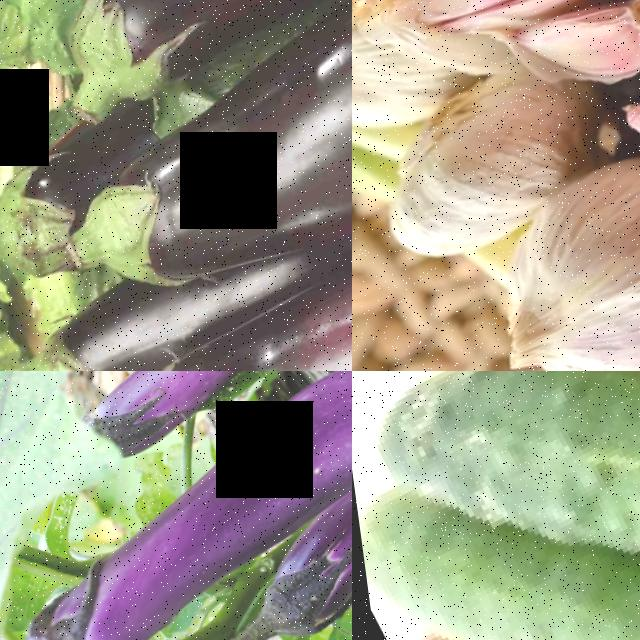cucumber: (356, 371, 640, 581), (507, 460, 640, 640)
eggplant: (41, 0, 352, 338), (0, 465, 269, 640), (28, 0, 352, 126), (91, 215, 352, 371), (35, 371, 352, 473), (214, 466, 352, 640), (0, 273, 178, 371)
garlic: (352, 58, 596, 285), (434, 145, 640, 371), (359, 0, 625, 82), (502, 0, 640, 126), (600, 63, 640, 251)
